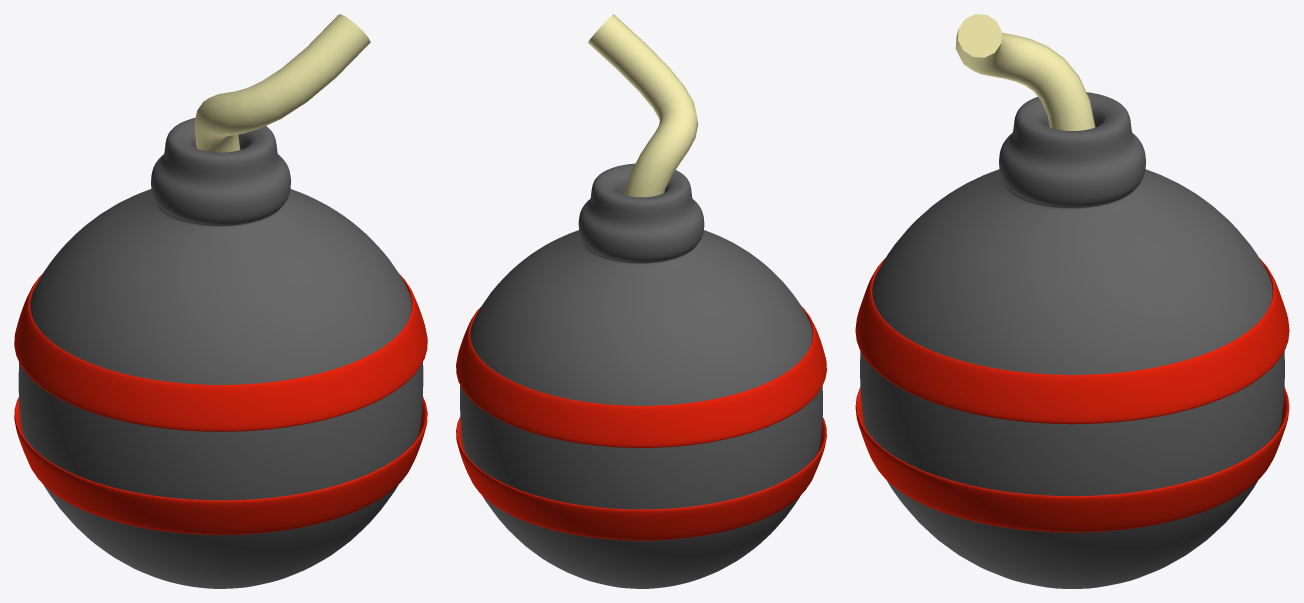
The model's file is BOMB.fbx.
3 views of the same model, side by side, from view 1: azimuth 30°, elevation 25°; view 2: azimuth 150°, elevation 25°; view 3: azimuth 270°, elevation 25° (orthographic). The views are drawn at different scales.
Visible parts, largest first — view 1: Sphere, Sphere.001, BezierCurve; view 2: Sphere, Sphere.001, BezierCurve; view 3: Sphere, Sphere.001, BezierCurve.
Part boxes in pixels (x1,y1,x2,y2): Sphere: (18, 117, 423, 588); Sphere.001: (14, 274, 427, 534); BezierCurve: (195, 14, 370, 152); Sphere: (460, 163, 822, 588); Sphere.001: (456, 307, 826, 540); BezierCurve: (588, 14, 697, 197); Sphere: (860, 92, 1284, 588); Sphere.001: (855, 258, 1289, 532); BezierCurve: (955, 14, 1095, 130).
Bounding box in the file's own units: 192 × 291 × 192.
